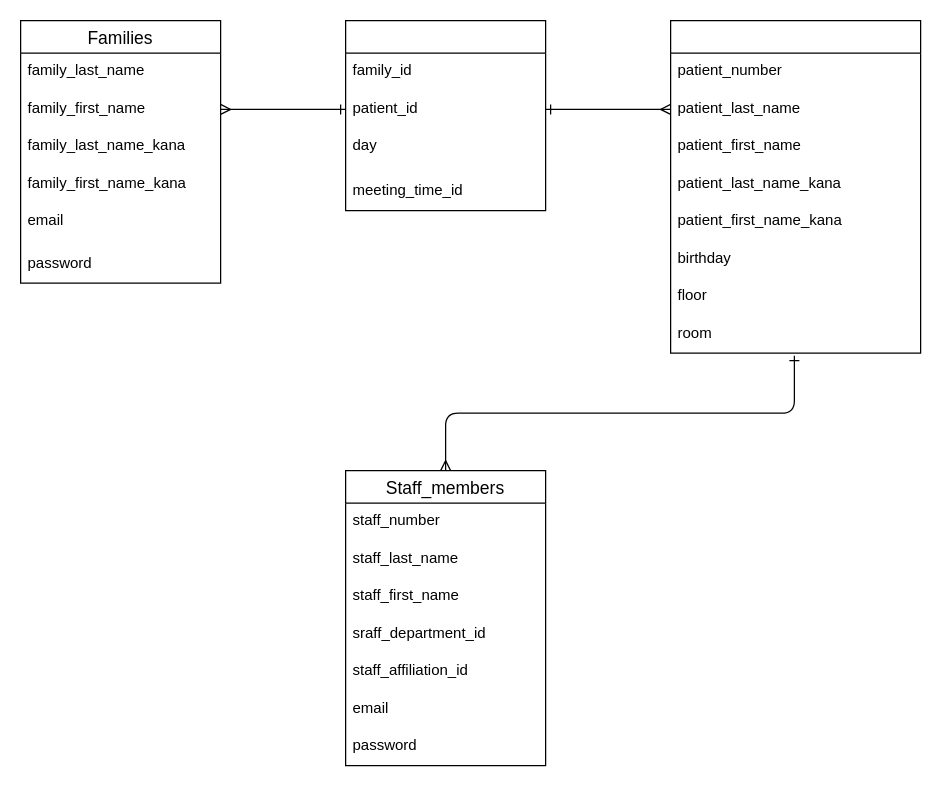
The diagram is 941 pixels wide and 786 high, and some of its shapes have lost their labels. The shapes that lost their labels are listed below. From the top down, each one's box as (x1, y1, x2, y2) in pixels, then its label:
(344, 19, 546, 211): Promises
(669, 19, 921, 353): Paitents
